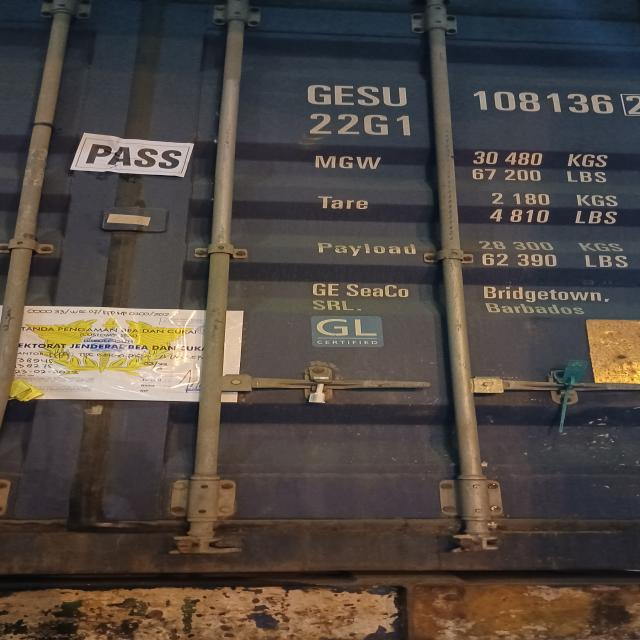seal: (548, 357, 596, 424), (302, 373, 339, 405)
